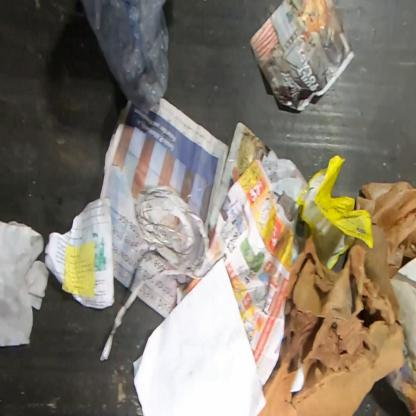cardboard: (256, 180, 415, 415), (389, 257, 415, 366)
soft_plastic: (73, 0, 170, 113)
